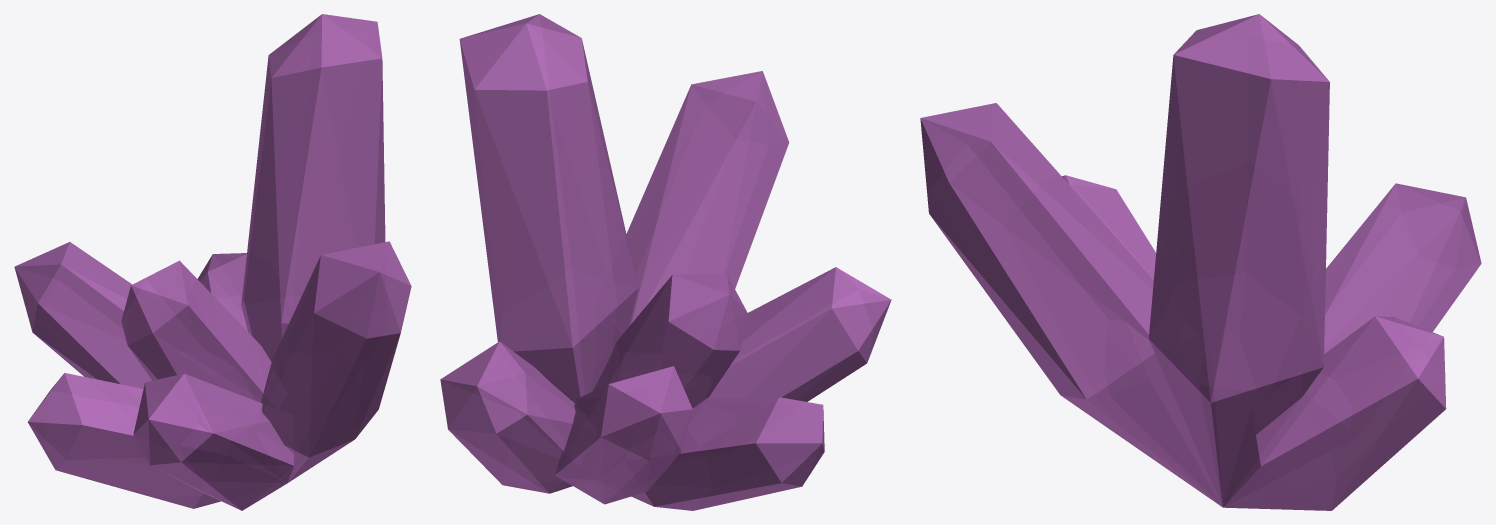
Rendered from pinkish_crystal.fbx.
The picture shows the model from 3 angles, left to right: view 1: azimuth 30°, elevation 25°; view 2: azimuth 150°, elevation 25°; view 3: azimuth 270°, elevation 25°; orthographic projection. The views are drawn at different scales.
Parts seen in each view (by area): view 1: pCylinder62; view 2: pCylinder62; view 3: pCylinder62.
Part boxes in pixels (x1,y1,x2,y2): pCylinder62: [14, 14, 411, 510]; pCylinder62: [440, 14, 891, 510]; pCylinder62: [920, 14, 1481, 510].
Bounding box in the file's own units: 4.2 × 5.07 × 4.94.
